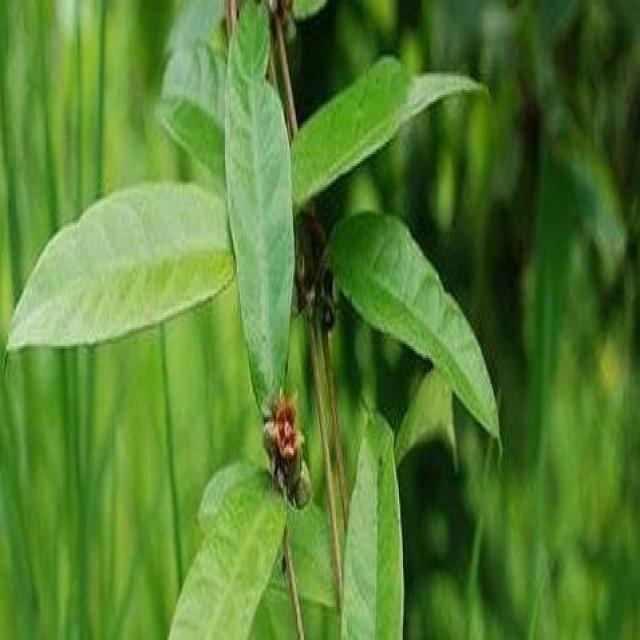Anantamul: (72, 42, 478, 413), (155, 342, 533, 640)
